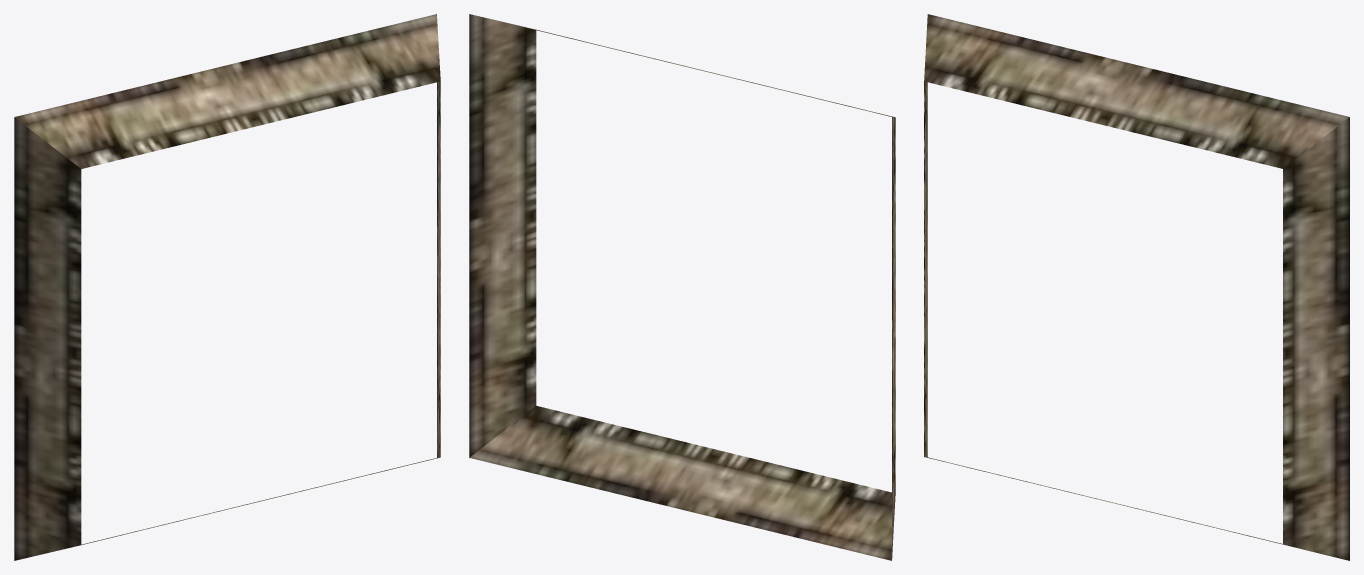
3 renders of one model, left to right at view 1: azimuth 30°, elevation 25°; view 2: azimuth 150°, elevation 25°; view 3: azimuth 330°, elevation 25°, orthographic.
Parts seen in each view (by area): view 1: model_Object15; view 2: model_Object15; view 3: model_Object15.
Part boxes in pixels (<box>): model_Object15: <box>14,14,440,560</box>; model_Object15: <box>469,14,895,560</box>; model_Object15: <box>924,14,1349,560</box>.
Bounding box in the file's own units: 1.18 × 1.18 × 0.1705.
Materials: 1 (1 with a texture image).
